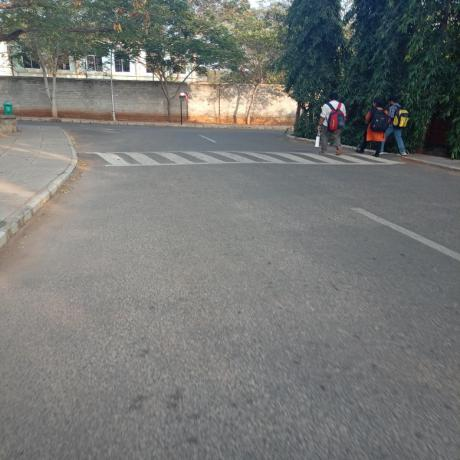Speed Bump: (74, 149, 407, 168)
